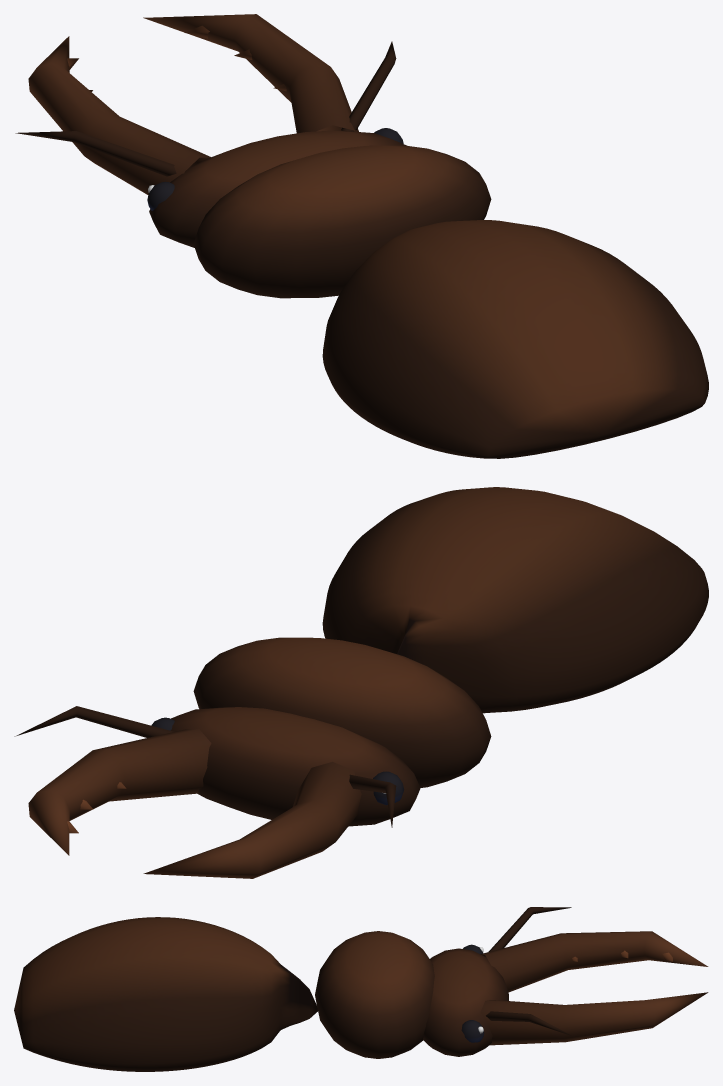
File: Kuwagata.fbx
3 views of the same model, one above another, from view 1: azimuth 30°, elevation 25°; view 2: azimuth 150°, elevation 25°; view 3: azimuth 270°, elevation 25° (orthographic). The views are drawn at different scales.
Visible parts, largest first — view 1: Kuwagata; view 2: Kuwagata; view 3: Kuwagata.
Part boxes in pixels (bbox=[...]): Kuwagata: bbox=[15, 14, 708, 458]; Kuwagata: bbox=[14, 487, 708, 878]; Kuwagata: bbox=[14, 907, 708, 1071].
Size of the model in its own units: 0.72 by 0.278 by 1.64.
